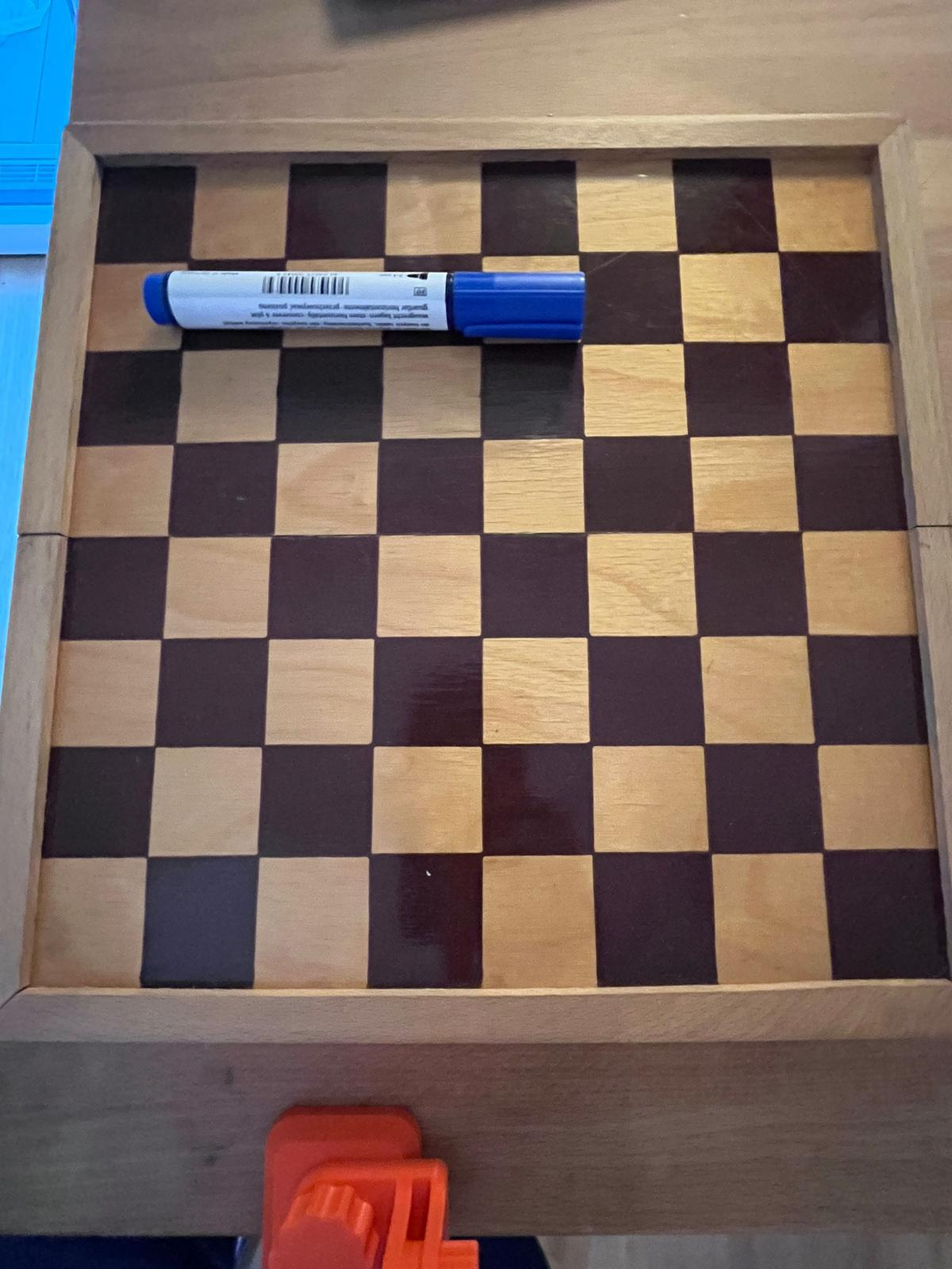marker: (135, 274, 587, 338)
